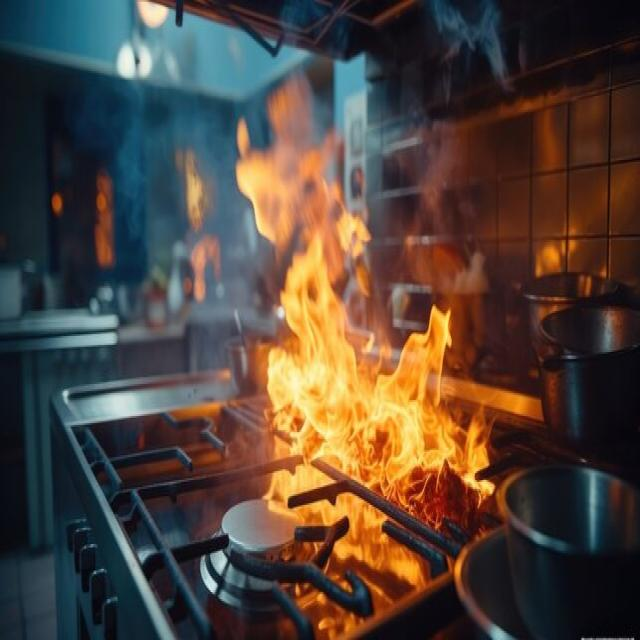fire: (235, 74, 496, 640), (189, 234, 220, 304), (94, 172, 114, 268), (185, 149, 207, 233)
